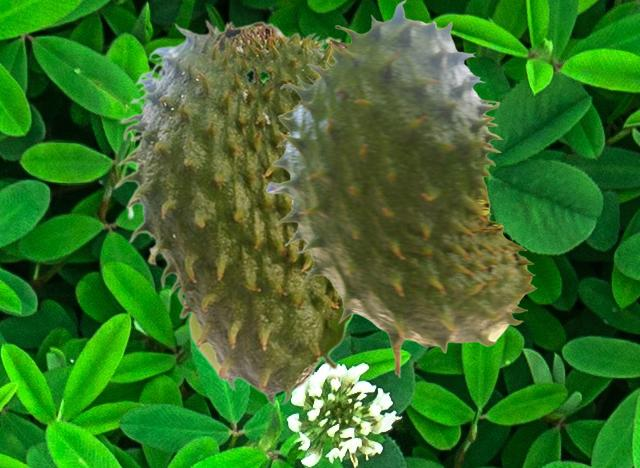guyabano: (266, 0, 536, 377), (113, 19, 354, 405)
